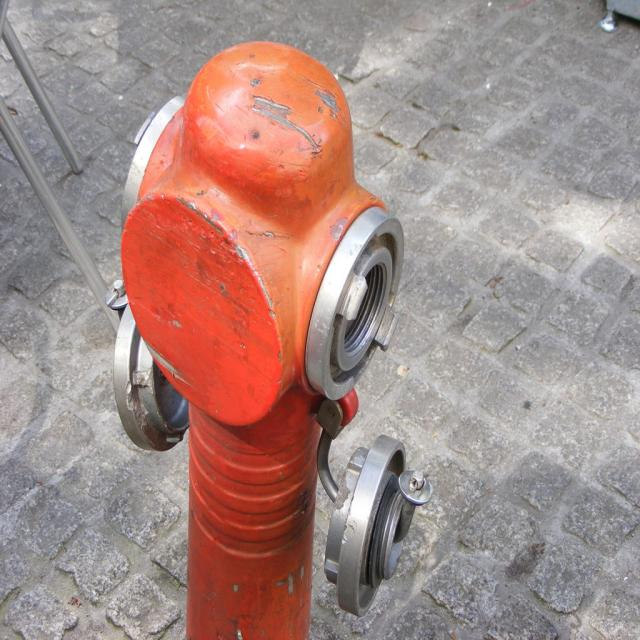fire_hydrant: (106, 40, 435, 639)
